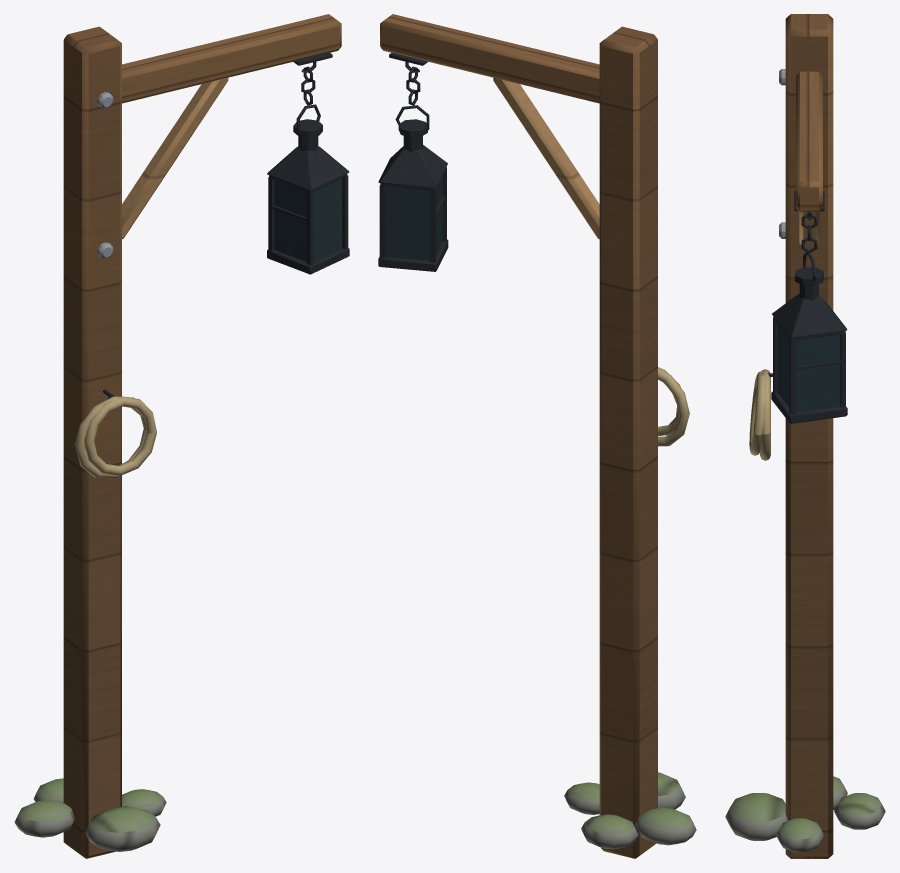
Rendered from lantern_post.glb.
3 views of the same model, side by side, from view 1: azimuth 30°, elevation 25°; view 2: azimuth 150°, elevation 25°; view 3: azimuth 270°, elevation 25° (orthographic). The views are drawn at different scales.
Parts seen in each view (by area): view 1: lantern_post; view 2: lantern_post; view 3: lantern_post.
Part boxes in pixels (bbox=[...]): lantern_post: bbox=[14, 14, 349, 858]; lantern_post: bbox=[378, 14, 696, 858]; lantern_post: bbox=[725, 14, 885, 858].
Bounding box in the file's own units: 1.1 × 2.7 × 0.4735.
9 materials, 9 textured.
